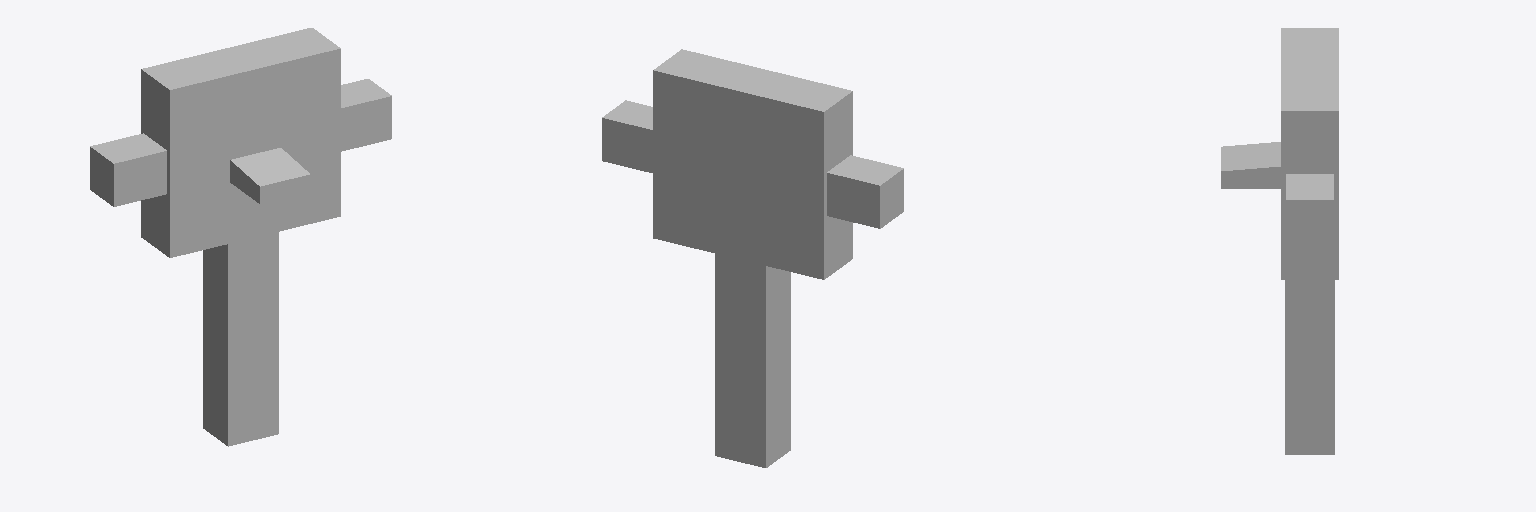
The model's file is body.obj.
3 renders of one model, left to right at view 1: azimuth 30°, elevation 25°; view 2: azimuth 150°, elevation 25°; view 3: azimuth 270°, elevation 25°, orthographic.
Parts seen in each view (by area): view 1: Body, UpperLegR, UpperLegL, UpperArmR, UpperArmL, FootR, FootL; view 2: Body, UpperLegR, UpperLegL, UpperArmR, UpperArmL; view 3: Body, UpperLegR, UpperLegL, UpperArmL, FootR, FootL.
Boxes of the visible parts, <box> form: Body: <box>141,28,340,257</box>; UpperLegR: <box>203,232,278,445</box>; UpperLegL: <box>203,232,278,446</box>; UpperArmR: <box>90,133,166,206</box>; UpperArmL: <box>341,79,391,151</box>; FootR: <box>230,148,310,203</box>; FootL: <box>231,148,310,202</box>; Body: <box>653,49,852,279</box>; UpperLegR: <box>715,254,790,467</box>; UpperLegL: <box>715,254,790,467</box>; UpperArmR: <box>827,155,903,228</box>; UpperArmL: <box>602,100,652,172</box>; Body: <box>1281,28,1338,279</box>; UpperLegR: <box>1285,280,1334,454</box>; UpperLegL: <box>1285,280,1334,454</box>; UpperArmL: <box>1286,174,1333,242</box>; FootR: <box>1221,142,1280,188</box>; FootL: <box>1221,142,1280,188</box>.
Size of the model in its own units: 0.6907 by 0.8831 by 0.2522.